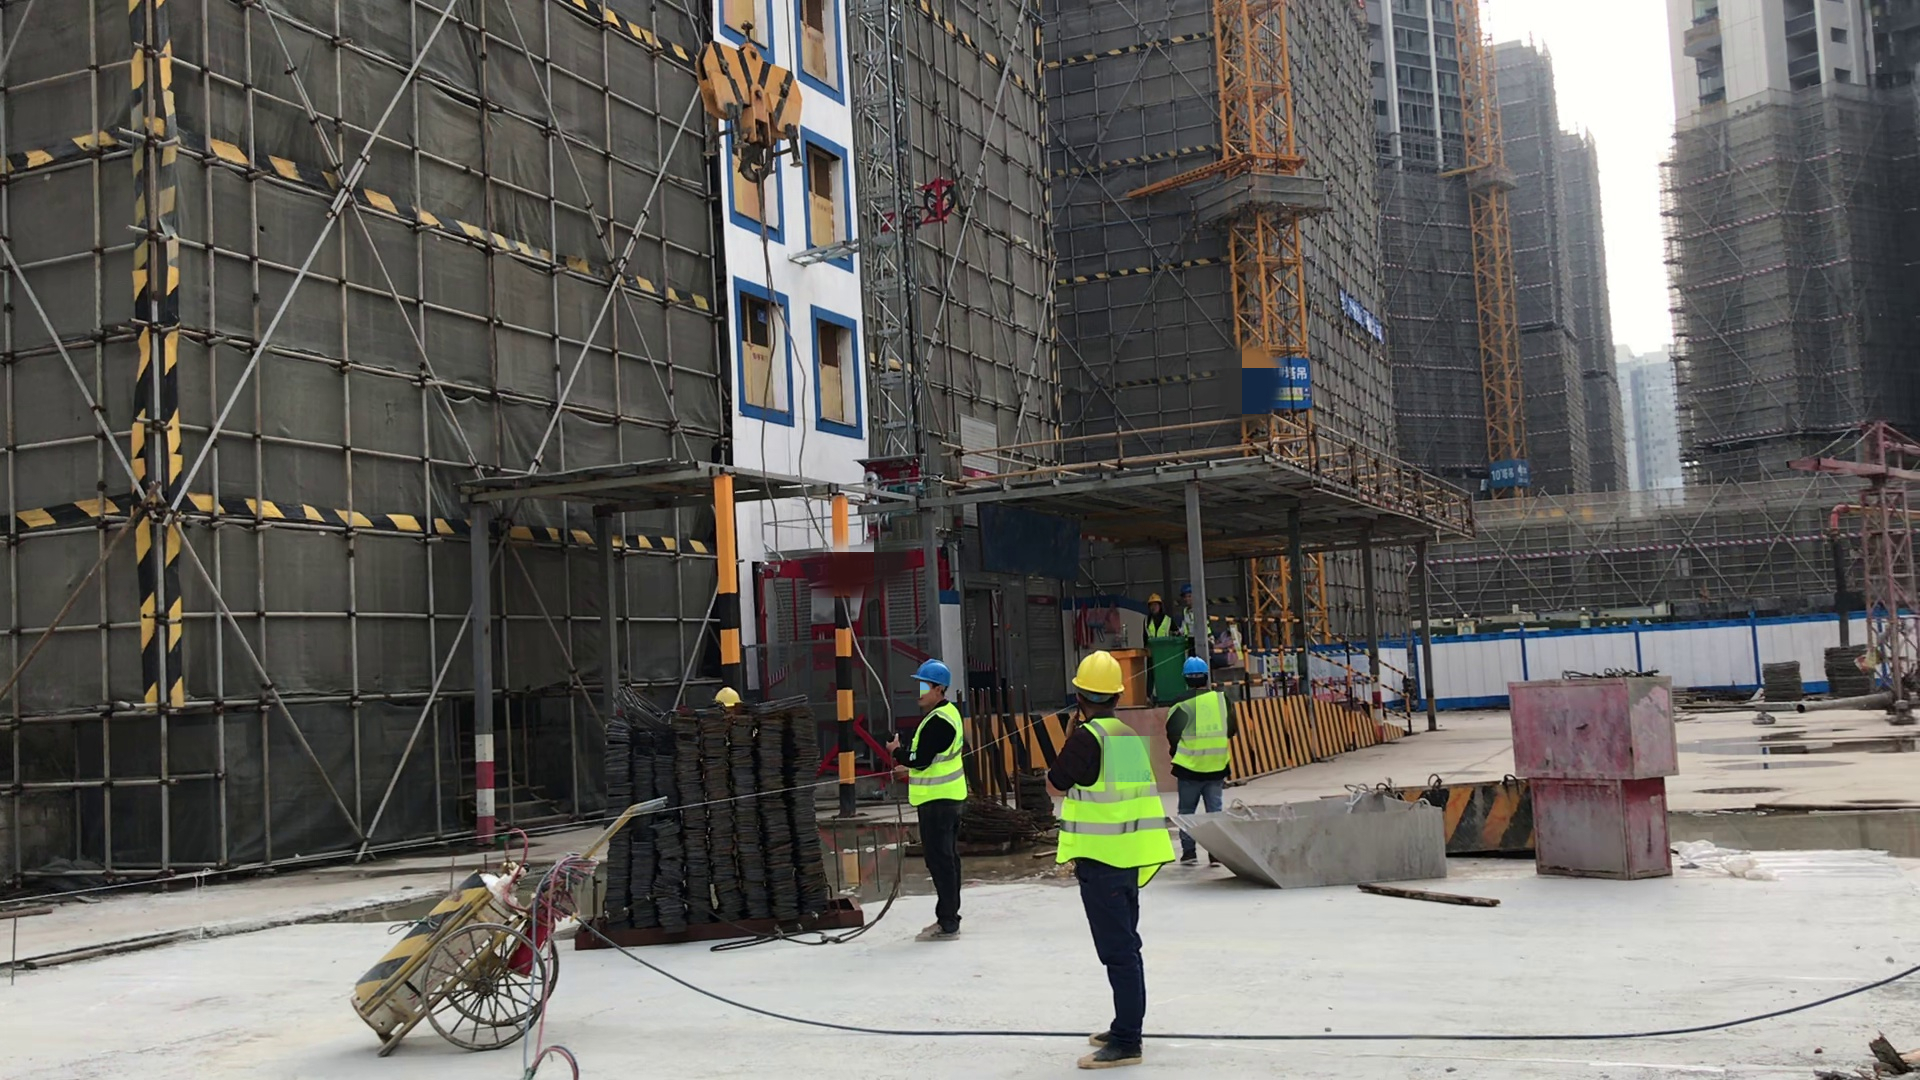fence: (1228, 594, 1467, 752)
handcart: (303, 808, 658, 1046)
helmet: (1065, 645, 1130, 700), (912, 657, 956, 694), (1183, 654, 1213, 687), (1144, 589, 1163, 605), (1179, 580, 1194, 593)
hook: (642, 31, 799, 193)
hopper: (1185, 775, 1454, 904), (1375, 770, 1545, 868)
person: (1049, 649, 1172, 1075), (898, 648, 972, 944), (1166, 657, 1240, 871), (1139, 591, 1171, 697), (1177, 586, 1221, 658), (1221, 615, 1247, 693)
slogan: (1329, 285, 1381, 364)
vest: (1055, 715, 1176, 891), (907, 701, 979, 809), (1170, 689, 1236, 784), (1180, 605, 1217, 647), (1144, 611, 1173, 640)
